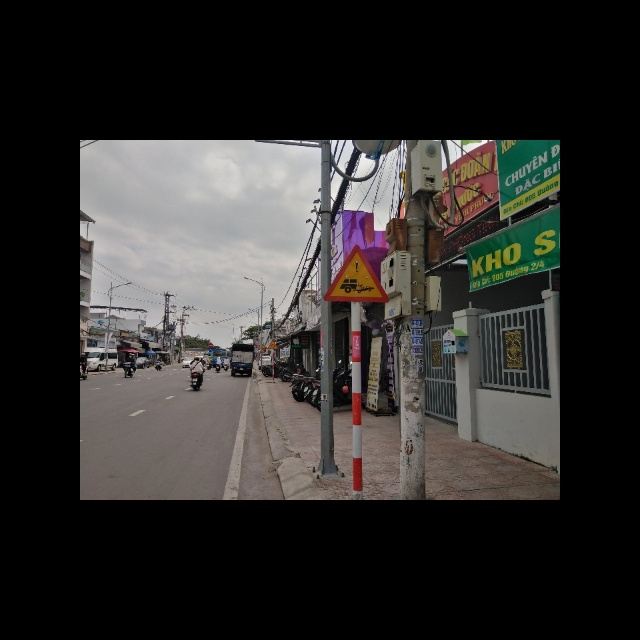Đoạn đường hay xảy ra tai nạn: (324, 245, 388, 303)
Đường đôi: (267, 338, 280, 350)
